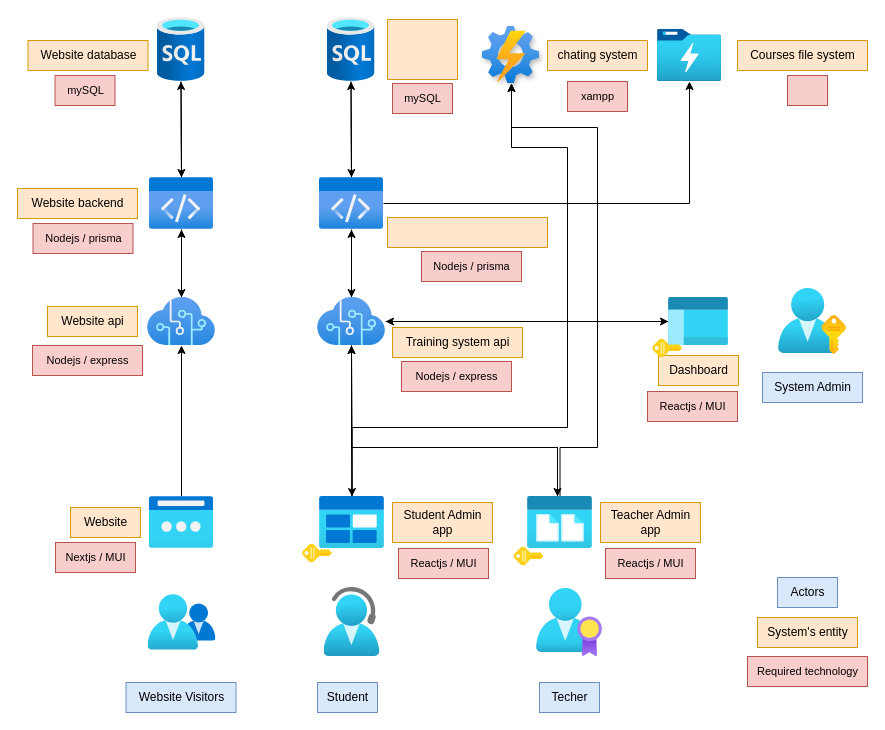
This 885x730 diagram has some shape labels left out. Each missing label, with the centre of its shape:
Training system backend: (x=467, y=232)
Training system database: (x=422, y=49)
xfs: (x=807, y=90)
